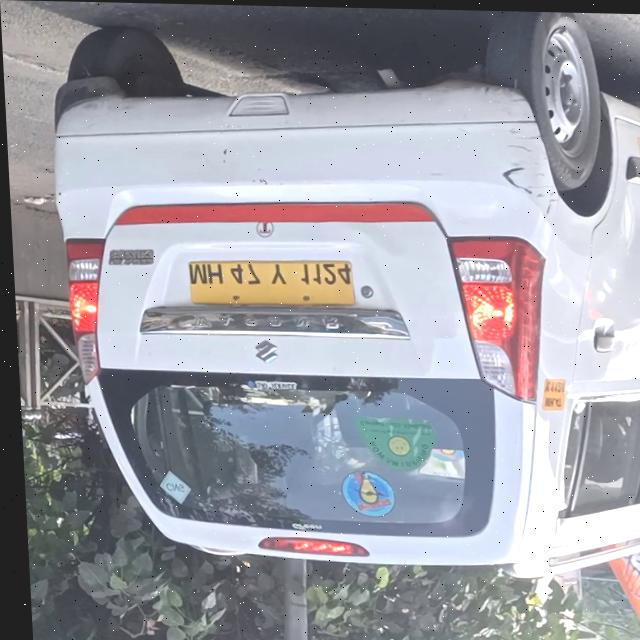plate: (188, 255, 353, 309)
